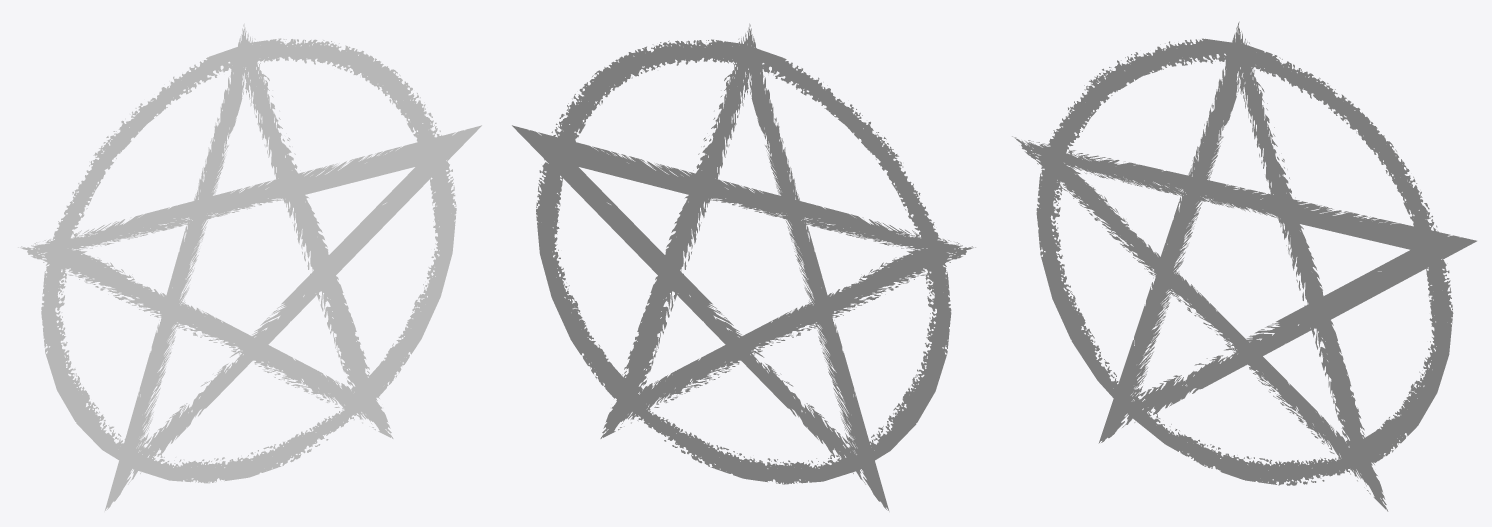
Rendered from Pentagram.fbx.
3 renders of one model, left to right at view 1: azimuth 30°, elevation 25°; view 2: azimuth 150°, elevation 25°; view 3: azimuth 330°, elevation 25°, orthographic.
Parts seen in each view (by area): view 1: Penta; view 2: Penta; view 3: Penta.
Part boxes in pixels (x1,y1,x2,y2): Penta: [18, 23, 481, 511]; Penta: [512, 23, 975, 511]; Penta: [1012, 21, 1476, 511].
Size of the model in its own units: 96.15 by 91.21 by 0.2575.
